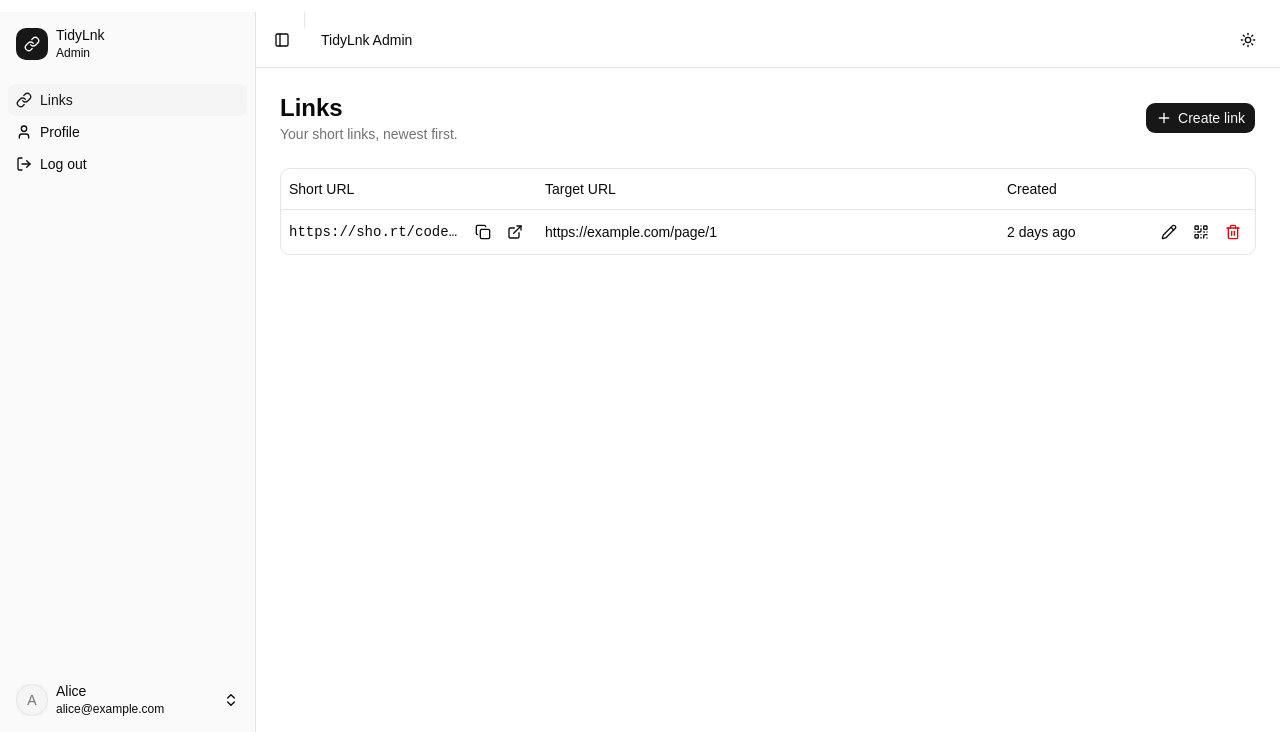
Test: Links page › copies the short URL
Click the button named "Copy https://sho.rt/code1xx": click(483, 232) [469,218,497,246]
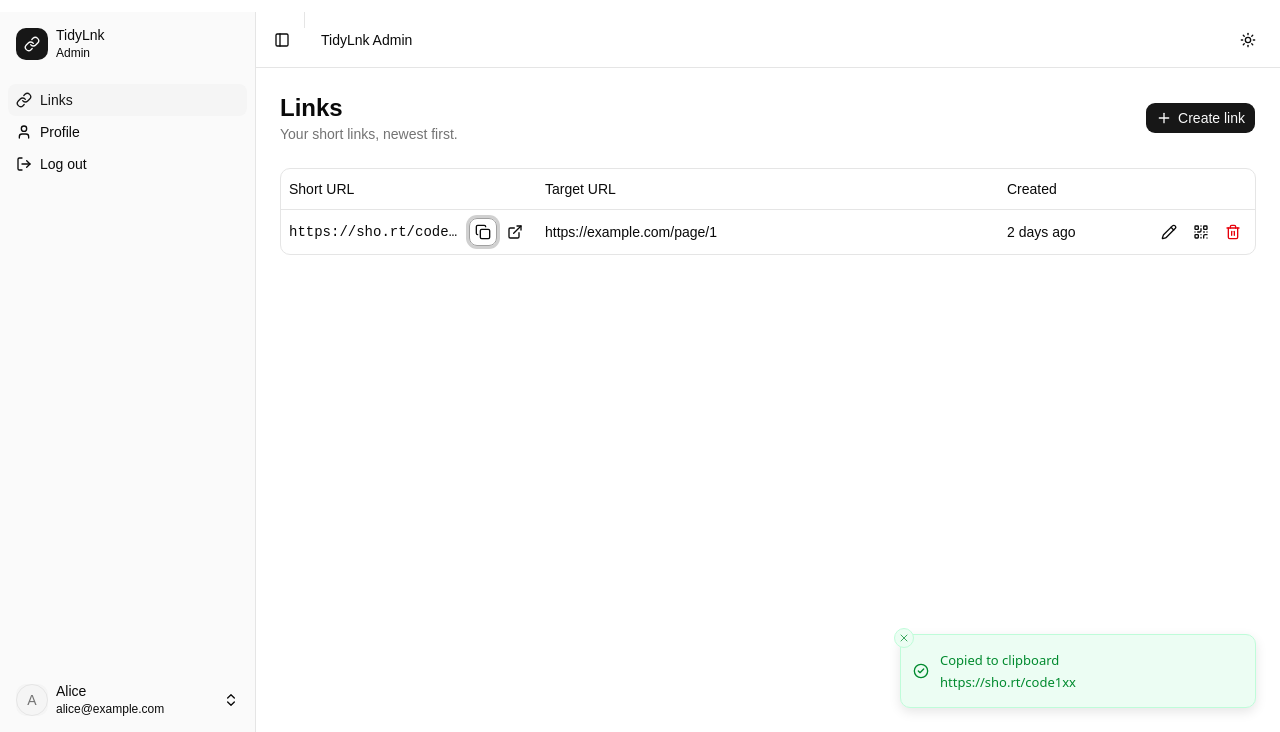
Now the text "Copied to clipboard" is shown, box [940,651,1076,671]
